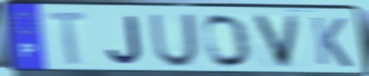J: (106, 14, 145, 66)
K: (310, 15, 355, 70)
O: (201, 13, 254, 70)
T: (45, 10, 93, 69)
U: (148, 13, 200, 69)
V: (250, 13, 303, 70)
